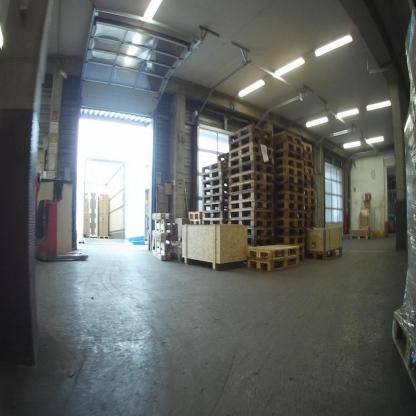pallet: (384, 307, 415, 393), (230, 123, 273, 147), (229, 143, 270, 166), (248, 244, 299, 262), (151, 209, 167, 261), (231, 151, 270, 172), (247, 256, 301, 271), (231, 134, 271, 153), (310, 242, 343, 265), (229, 169, 270, 187), (227, 162, 272, 177), (228, 189, 271, 203), (163, 210, 174, 264), (228, 182, 273, 195), (228, 199, 272, 211), (272, 129, 302, 146), (228, 211, 272, 221), (231, 221, 273, 231), (272, 139, 303, 152), (202, 168, 227, 183), (275, 154, 303, 167), (274, 191, 303, 203), (200, 160, 226, 173), (275, 148, 303, 160), (276, 172, 304, 184), (199, 183, 227, 195), (275, 244, 306, 254), (275, 165, 303, 176), (274, 183, 304, 193), (202, 200, 227, 212), (247, 239, 273, 250), (276, 219, 304, 229), (245, 229, 273, 239), (274, 210, 304, 219), (203, 177, 229, 187), (274, 236, 306, 244), (203, 193, 229, 202), (274, 202, 303, 210), (203, 211, 227, 220), (276, 229, 306, 236), (349, 233, 370, 242), (201, 220, 227, 227), (97, 233, 111, 242), (187, 210, 201, 219), (296, 255, 306, 266), (303, 197, 315, 206), (190, 220, 201, 229), (301, 144, 312, 153), (303, 204, 314, 212), (304, 189, 316, 196), (303, 159, 313, 167), (302, 221, 315, 227), (304, 175, 314, 182), (305, 183, 314, 189), (306, 167, 313, 174), (307, 214, 315, 220), (305, 153, 313, 158)
pallet_truck: (26, 164, 94, 260)
